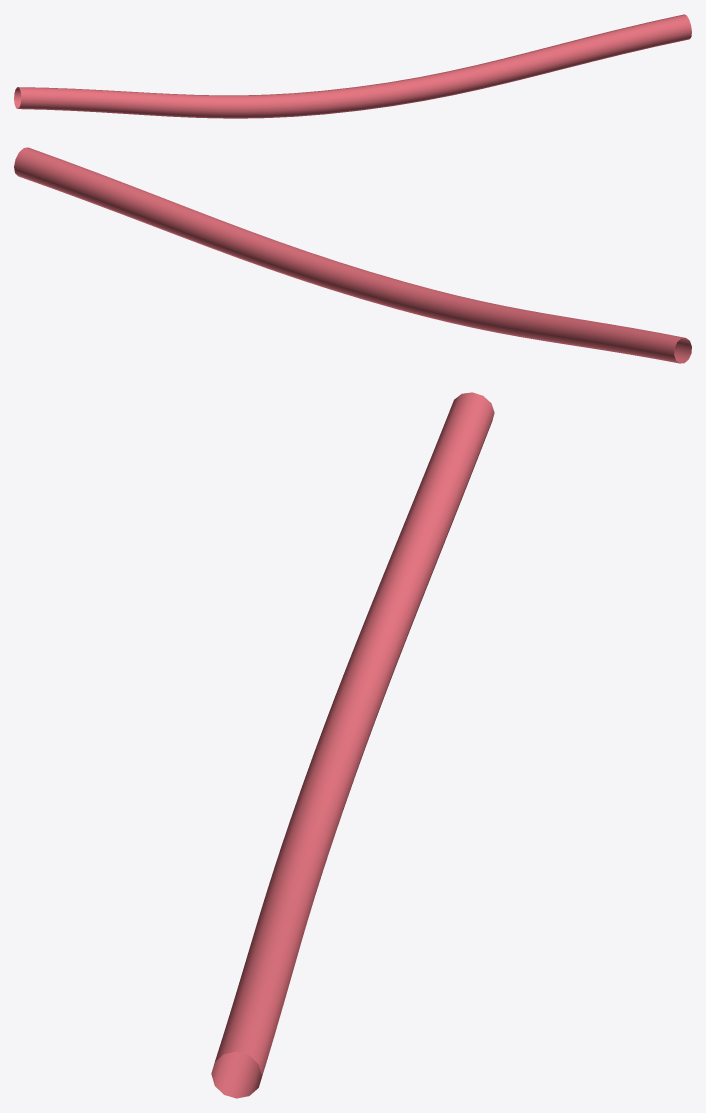
3 views of the same model, one above another, from view 1: azimuth 30°, elevation 25°; view 2: azimuth 150°, elevation 25°; view 3: azimuth 270°, elevation 25° (orthographic). The views are drawn at different scales.
Visible parts, largest first — view 1: ZA_3e4c4e37c254d3f3; view 2: ZA_3e4c4e37c254d3f3; view 3: ZA_3e4c4e37c254d3f3.
Part boxes in pixels (bbox=[...]): ZA_3e4c4e37c254d3f3: bbox=[14, 14, 691, 118]; ZA_3e4c4e37c254d3f3: bbox=[14, 147, 691, 363]; ZA_3e4c4e37c254d3f3: bbox=[211, 392, 494, 1098].
Size of the model in its own units: 0.0273 by 0.00292 by 0.00545.
